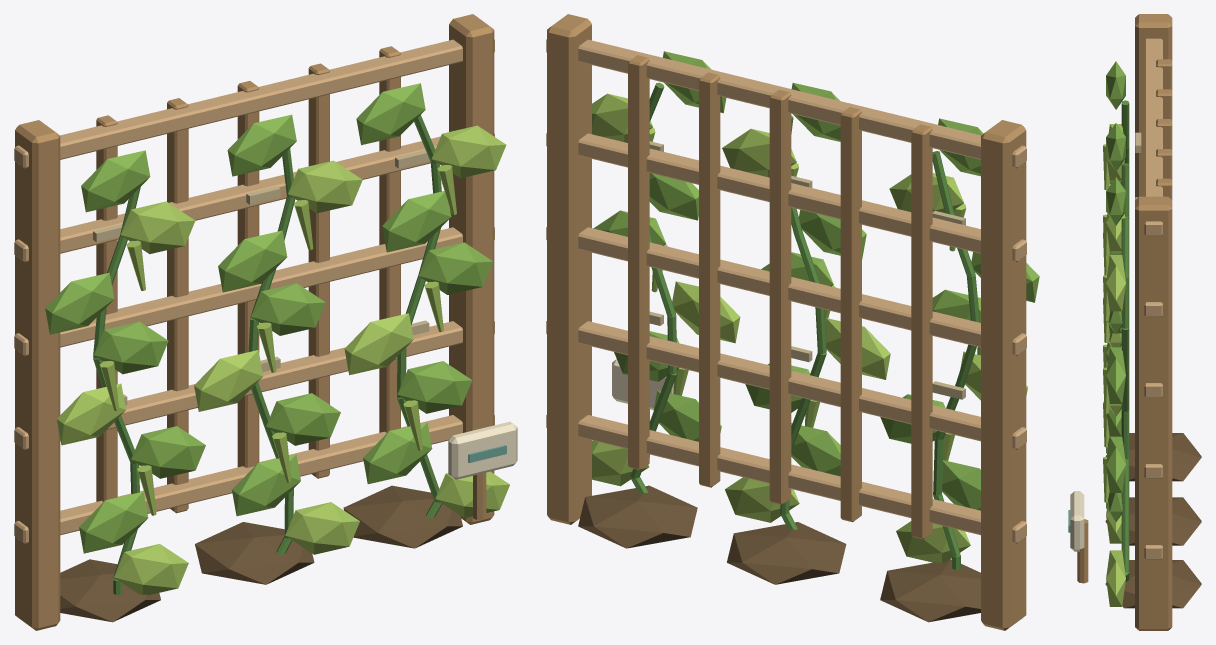
Rendered from farm_art_trellis.glb.
The picture shows the model from 3 angles, left to right: view 1: azimuth 30°, elevation 25°; view 2: azimuth 150°, elevation 25°; view 3: azimuth 270°, elevation 25°; orthographic projection. The views are drawn at different scales.
Visible parts, largest first — view 1: Trellis sturdy upright, Trellis sturdy upright.001, Horizontal trellis batten.004, Horizontal trellis batten.002, Horizontal trellis batten, Horizontal trellis batten.001, Horizontal trellis batten.003, Vertical trellis batten.001, Plant soil mound.001, Plant soil mound.002, Vertical trellis batten.003, Vertical trellis batten.004 (+28 smaller); view 2: Trellis sturdy upright, Trellis sturdy upright.001, Vertical trellis batten.002, Vertical trellis batten.001, Vertical trellis batten, Vertical trellis batten.004, Vertical trellis batten.003, Horizontal trellis batten.004, Horizontal trellis batten.001, Horizontal trellis batten.003, Horizontal trellis batten.002, Horizontal trellis batten (+24 smaller); view 3: Trellis sturdy upright.001, Horizontal trellis batten.004, Trellis sturdy upright, Plant soil mound.002, Plant soil mound.001, Plant soil mound, Heart shaped bean leaf.016, Heart shaped bean leaf.018, Heart shaped bean leaf.022, Heart shaped bean leaf.020, Cream plant marker.001, Heart shaped bean leaf.007 (+32 smaller).
Boxes of the visible parts, x1,y1,x2,y2 form: Trellis sturdy upright: (15, 120, 60, 630); Trellis sturdy upright.001: (449, 14, 494, 524); Horizontal trellis batten.004: (14, 39, 494, 168); Horizontal trellis batten.002: (14, 227, 494, 355); Horizontal trellis batten: (14, 415, 494, 543); Horizontal trellis batten.001: (14, 321, 494, 449); Horizontal trellis batten.003: (14, 133, 494, 262); Vertical trellis batten.001: (167, 98, 188, 513); Plant soil mound.001: (195, 522, 314, 584); Plant soil mound.002: (343, 485, 462, 548); Vertical trellis batten.003: (308, 63, 329, 478); Vertical trellis batten.004: (379, 46, 400, 432); Trellis sturdy upright: (981, 120, 1026, 630); Trellis sturdy upright.001: (547, 14, 591, 524); Vertical trellis batten.002: (769, 89, 791, 504); Vertical trellis batten.001: (840, 107, 861, 522); Vertical trellis batten: (911, 124, 932, 539); Vertical trellis batten.004: (628, 55, 649, 470); Vertical trellis batten.003: (699, 72, 720, 487); Horizontal trellis batten.004: (546, 39, 1026, 168); Horizontal trellis batten.001: (546, 321, 1026, 449); Horizontal trellis batten.003: (546, 133, 1026, 262); Horizontal trellis batten.002: (546, 227, 1026, 355); Horizontal trellis batten: (546, 415, 1026, 543); Trellis sturdy upright.001: (1135, 196, 1172, 630); Horizontal trellis batten.004: (1144, 38, 1162, 236); Trellis sturdy upright: (1135, 14, 1172, 199); Plant soil mound.002: (1105, 560, 1201, 608); Plant soil mound.001: (1105, 497, 1201, 545); Plant soil mound: (1106, 433, 1201, 481); Heart shaped bean leaf.016: (1106, 550, 1125, 606); Heart shaped bean leaf.018: (1106, 436, 1125, 492); Heart shaped bean leaf.022: (1106, 255, 1125, 311); Heart shaped bean leaf.020: (1106, 347, 1125, 403); Cream plant marker.001: (1070, 491, 1084, 551); Heart shaped bean leaf.007: (1106, 61, 1125, 109).
Bounding box in the file's own units: 2 × 2 × 0.5672.
